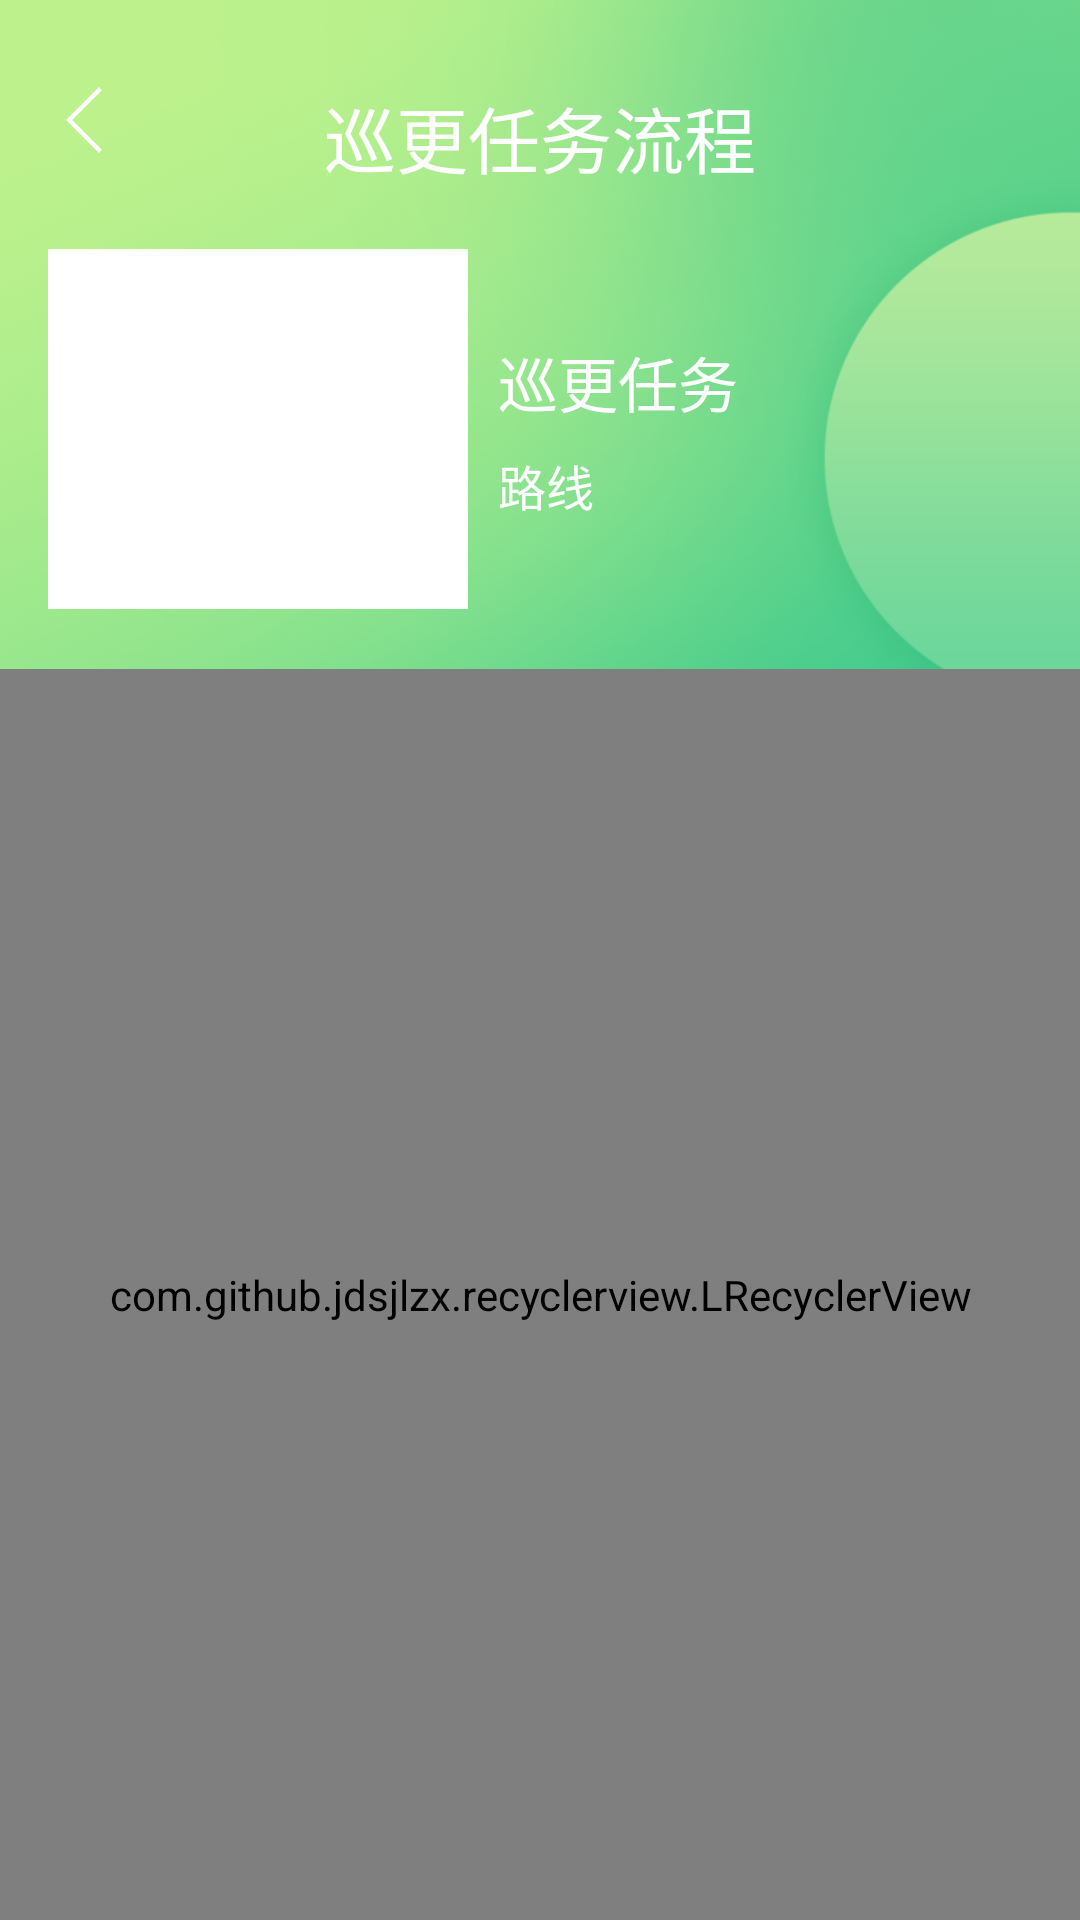

Named icons in this screenshot (1080×1920) and their centers, (x,y):
back: (84,120)
